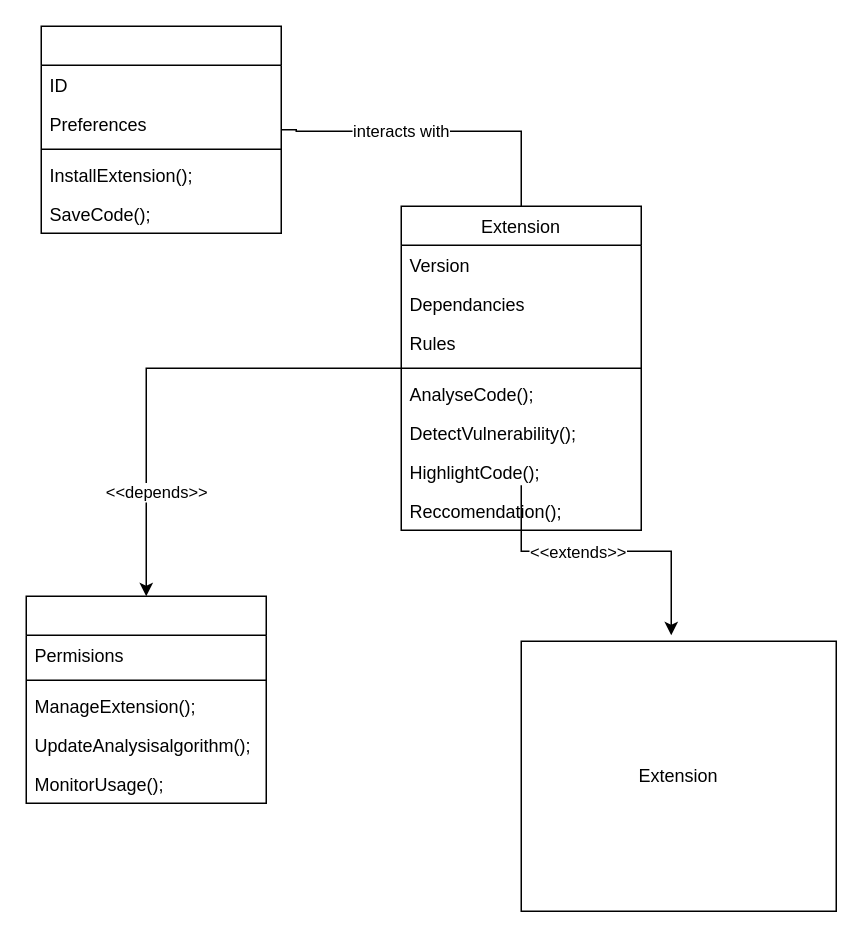
Some shapes in this 863 by 938 pixel diagram are drawn without their labels. The shapes that lost their labels are listed below. From the top down, each one's box as (x1, y1, x2, y2) in pixels, then its label:
(40, 25, 281, 233): User
(25, 595, 266, 803): Administrator
